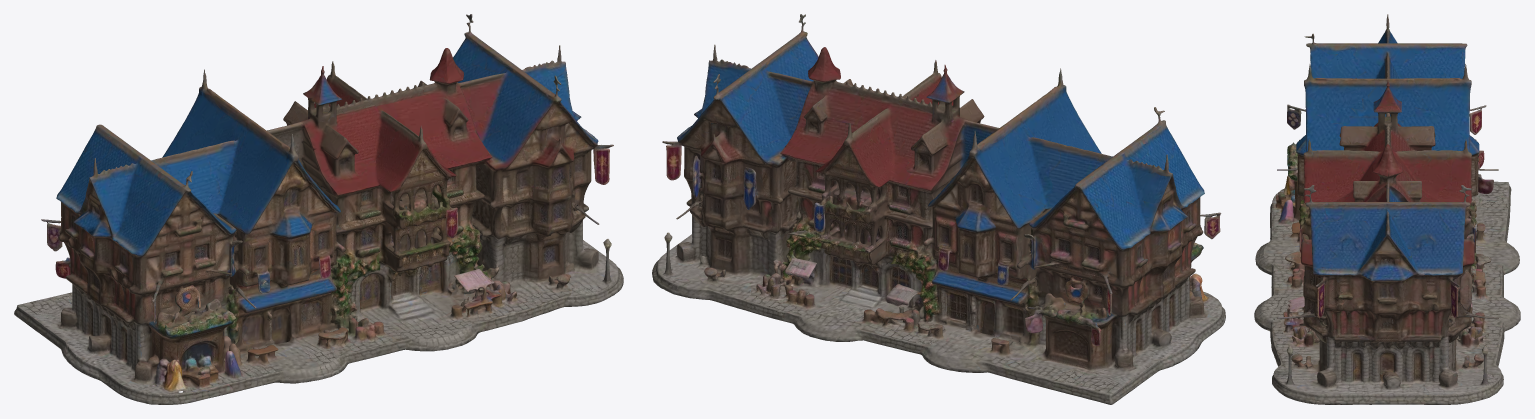
Rendered from hausdesnordens.glb.
3 views of the same model, side by side, from view 1: azimuth 30°, elevation 25°; view 2: azimuth 150°, elevation 25°; view 3: azimuth 270°, elevation 25° (orthographic). The views are drawn at different scales.
Bounding box in the file's own units: 1.9 × 0.8582 × 0.9725.
1 material, 1 textured.
